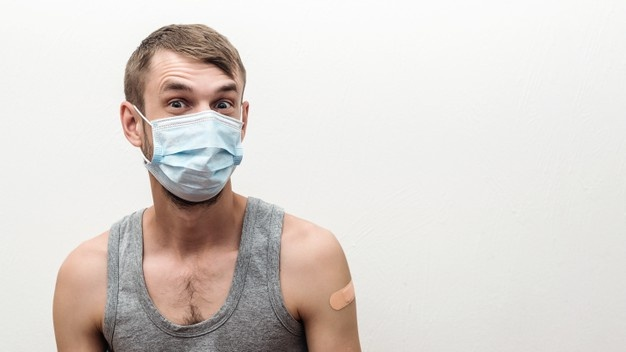with_mask: (135, 56, 249, 204)
